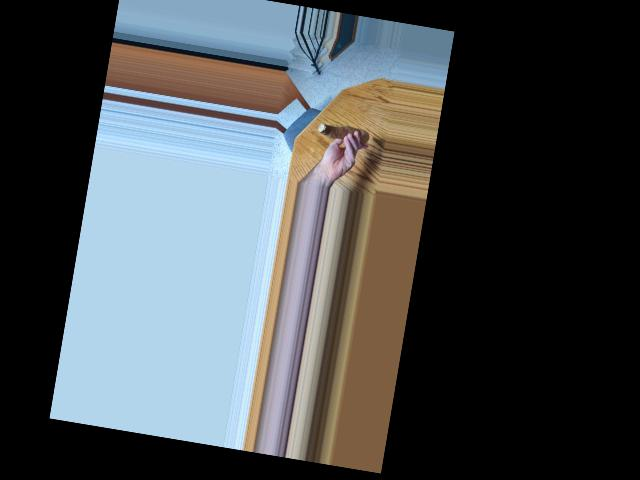sweet_potato: (319, 117, 367, 147)
